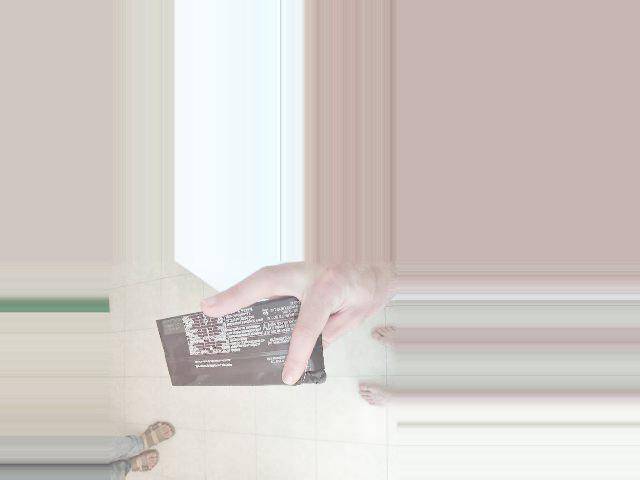chocolate: (192, 295, 294, 480)
